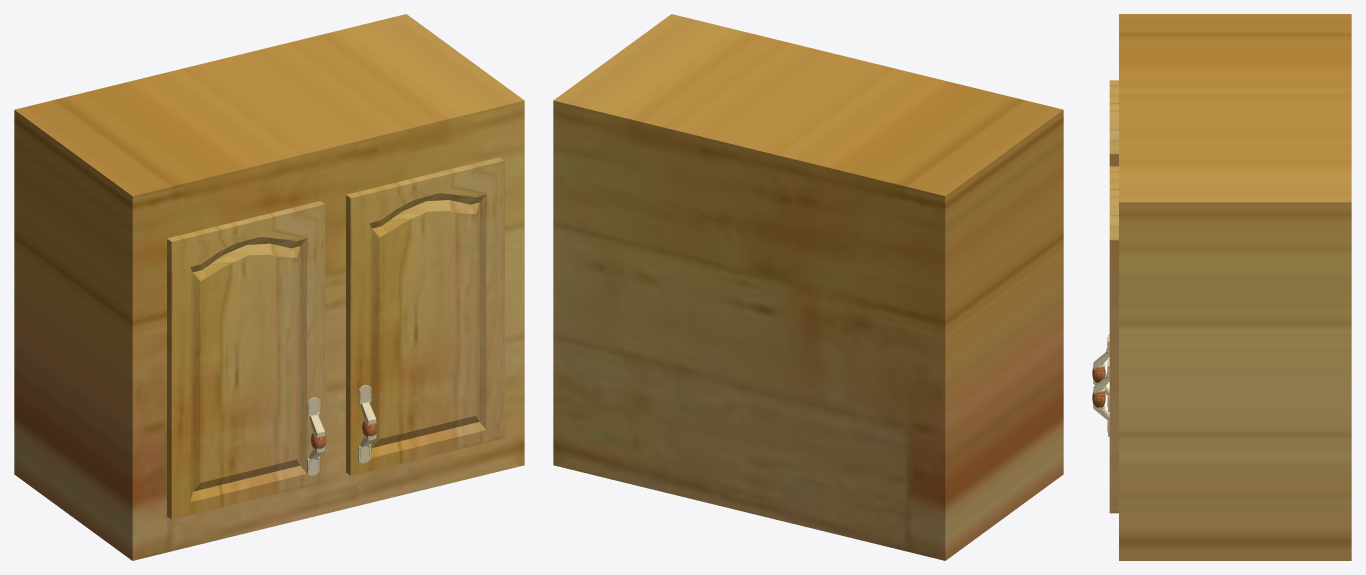
The model's file is sweethome3d-contributions-wood-upper-cabinet.glb.
3 views of the same model, side by side, from view 1: azimuth 30°, elevation 25°; view 2: azimuth 150°, elevation 25°; view 3: azimuth 270°, elevation 25° (orthographic).
Parts seen in each view (by area): view 1: PolyMesh_10, Curvedtopcabinet_1, Curvedtopcabinet, verthandle_3, verthandle_2; view 2: PolyMesh_10; view 3: PolyMesh_10, Curvedtopcabinet_1, Curvedtopcabinet, verthandle_3.
Boxes of the visible parts, box(x1,y1,x2,y2) form: PolyMesh_10: box(14, 14, 524, 560); Curvedtopcabinet_1: box(346, 157, 504, 475); Curvedtopcabinet: box(167, 201, 325, 519); verthandle_3: box(358, 385, 376, 463); verthandle_2: box(307, 397, 325, 475); PolyMesh_10: box(553, 14, 1063, 560); PolyMesh_10: box(1119, 14, 1351, 560); Curvedtopcabinet_1: box(1109, 166, 1118, 513); Curvedtopcabinet: box(1109, 80, 1118, 166); verthandle_3: box(1093, 359, 1109, 436).
Size of the model in its own units: 6.75 by 6 by 3.93.
4 materials, 3 textured.
